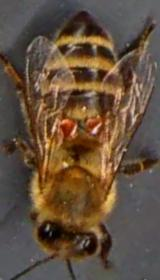varroa_mite: (50, 115, 80, 139), (80, 109, 103, 139)
